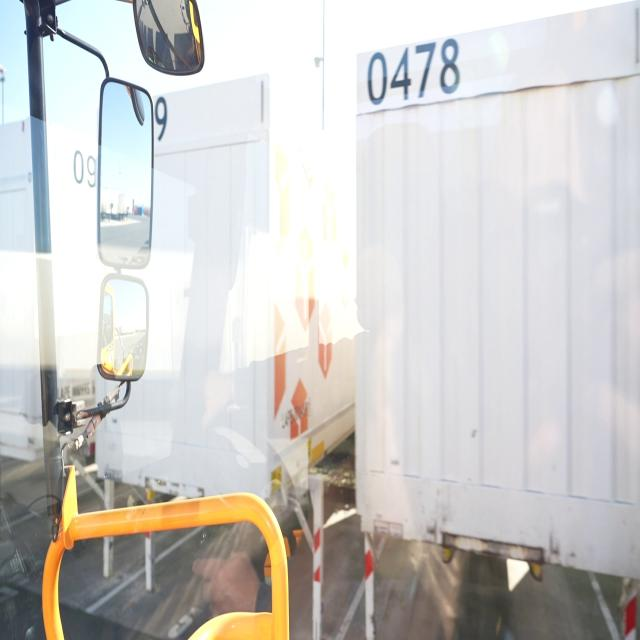Code: (364, 34, 468, 109)
